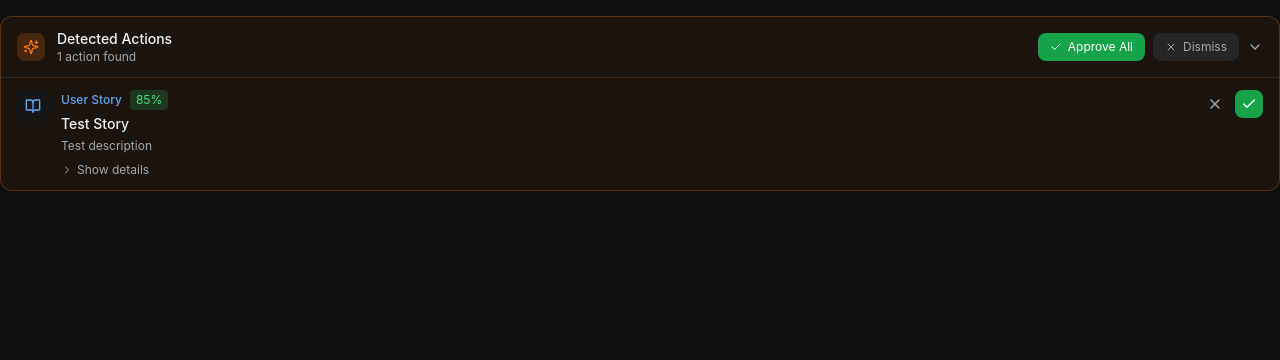
Test case: ActionConfirmation › Action Details Toggle › should toggle metadata details when clicked
Click the button "Show details" at (105, 170), box [61,162,149,178]
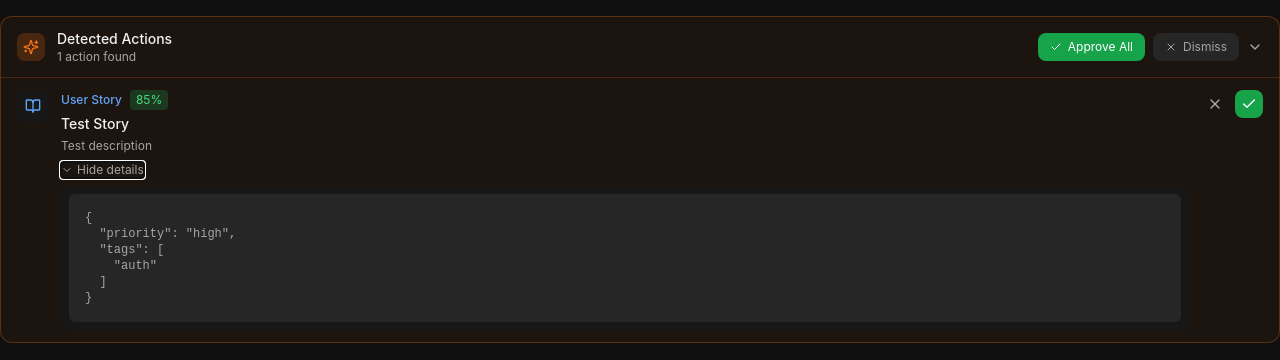
Result: the button "Hide details" is shown
Result: the text "{ \"priority\": \"high\", \"tags\": [ \"auth\" ] }" is shown at [69,194,1181,322]
Click the button "Hide details" at (102, 170), box [61,162,144,178]
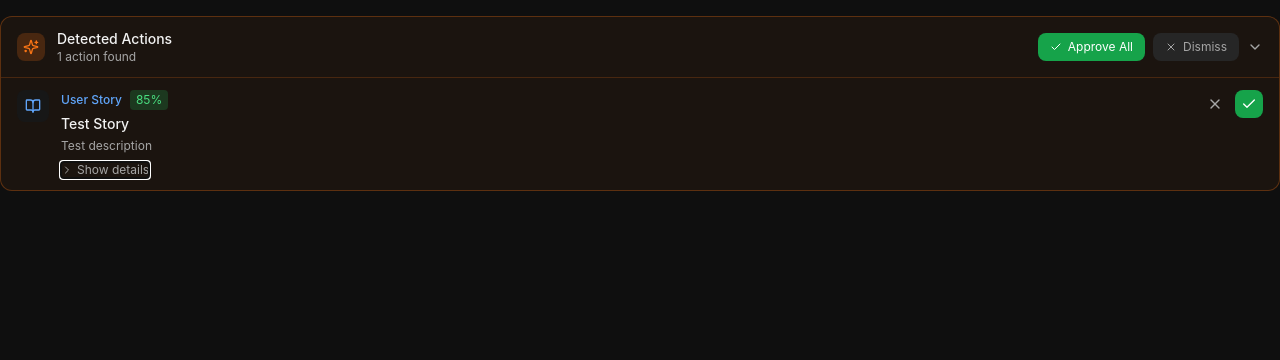
Result: the text "\"priority\": \"high\"" is gone
